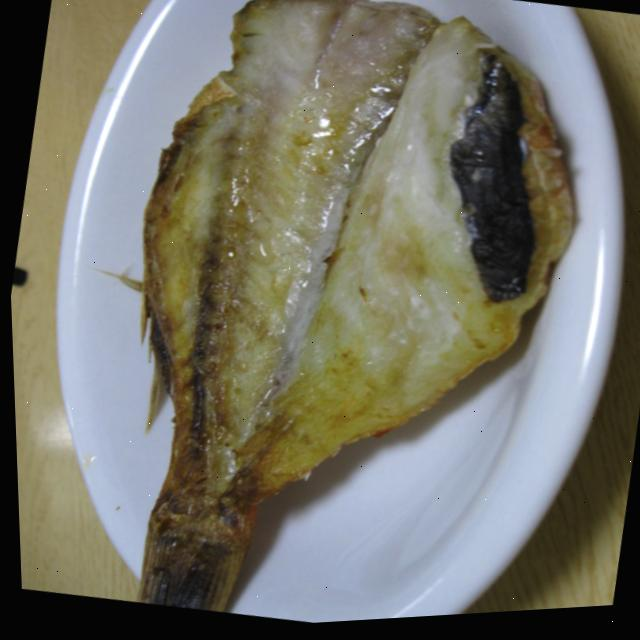熟制海鲜: (47, 0, 435, 428)
